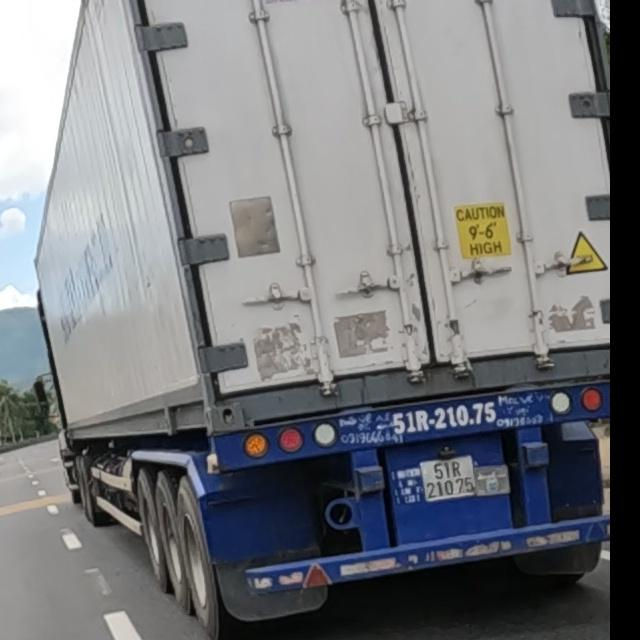license-plate: (420, 456, 476, 501)
